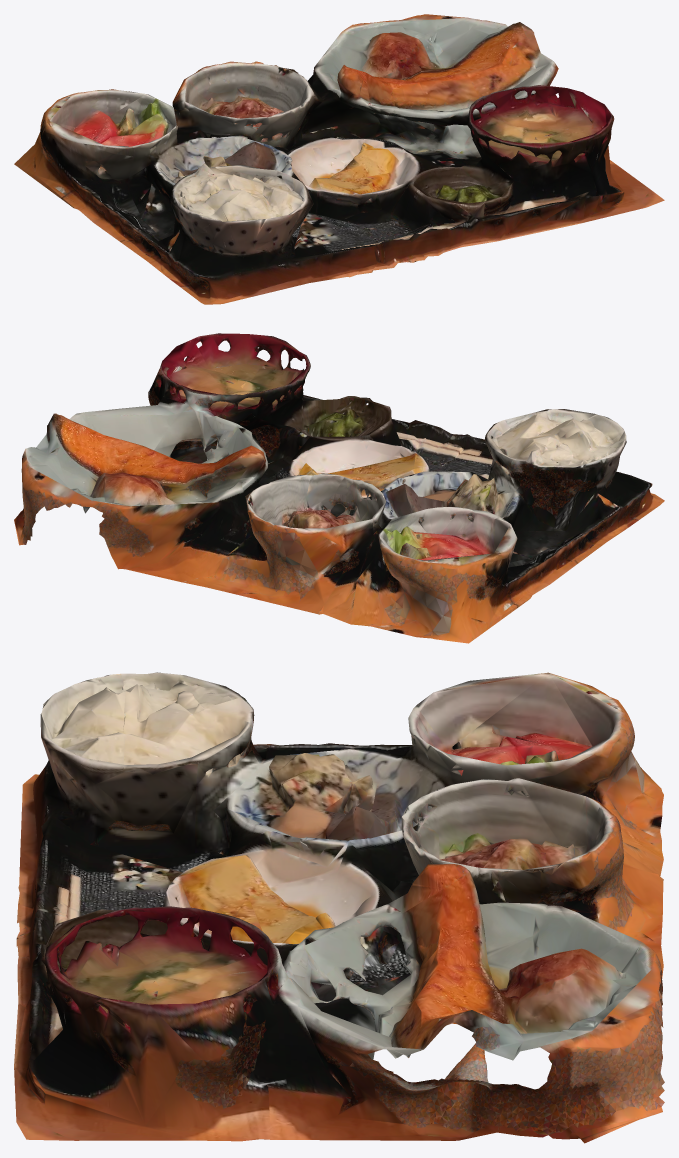
The model's file is teishoku.glb.
The picture shows the model from 3 angles, top to bottom: view 1: azimuth 30°, elevation 25°; view 2: azimuth 150°, elevation 25°; view 3: azimuth 270°, elevation 25°; orthographic projection. The views are drawn at different scales.
Visible parts, largest first — view 1: Object_2; view 2: Object_2; view 3: Object_2.
Part boxes in pixels (x1=…): Object_2: x1=14, y1=14, x2=664, y2=304; Object_2: x1=14, y1=333, x2=664, y2=643; Object_2: x1=14, y1=672, x2=664, y2=1143.
Bounding box in the file's own units: 0.3392 × 0.0704 × 0.258.
1 material, 1 textured.
